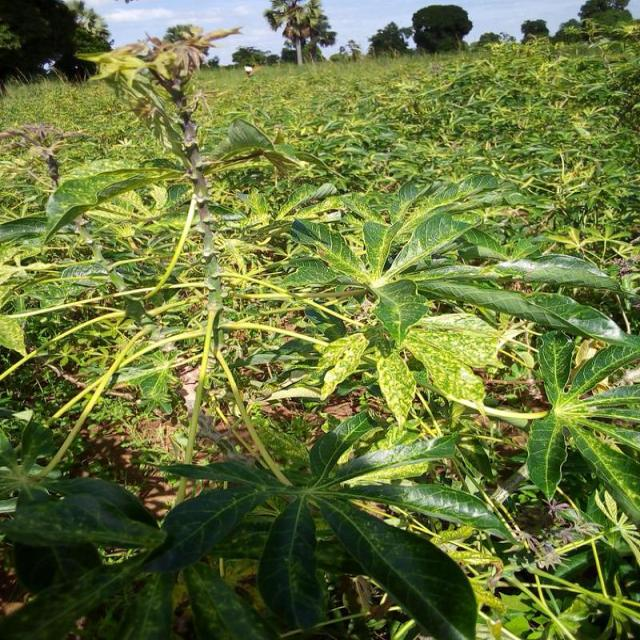cassava leaf: (2, 20, 638, 638), (314, 490, 480, 639)
